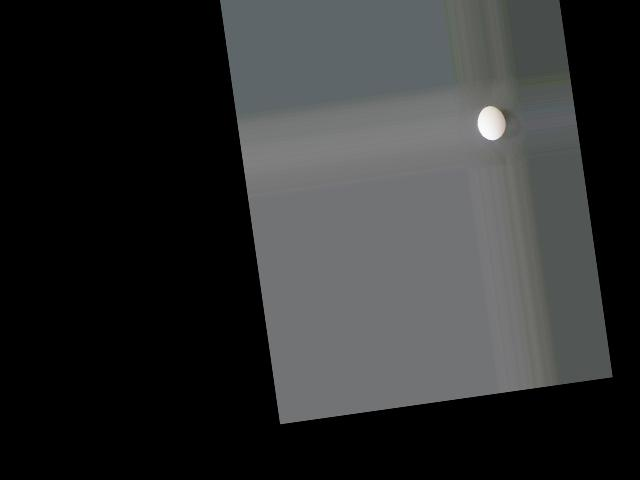egg: (475, 103, 507, 140)
